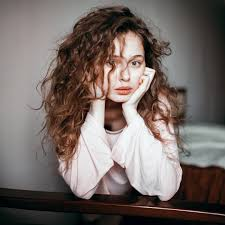bare: (102, 68, 149, 102)
